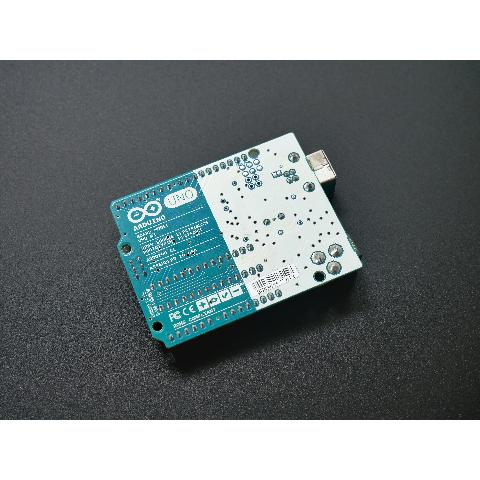Arduino-Uno: (109, 134, 367, 350)
